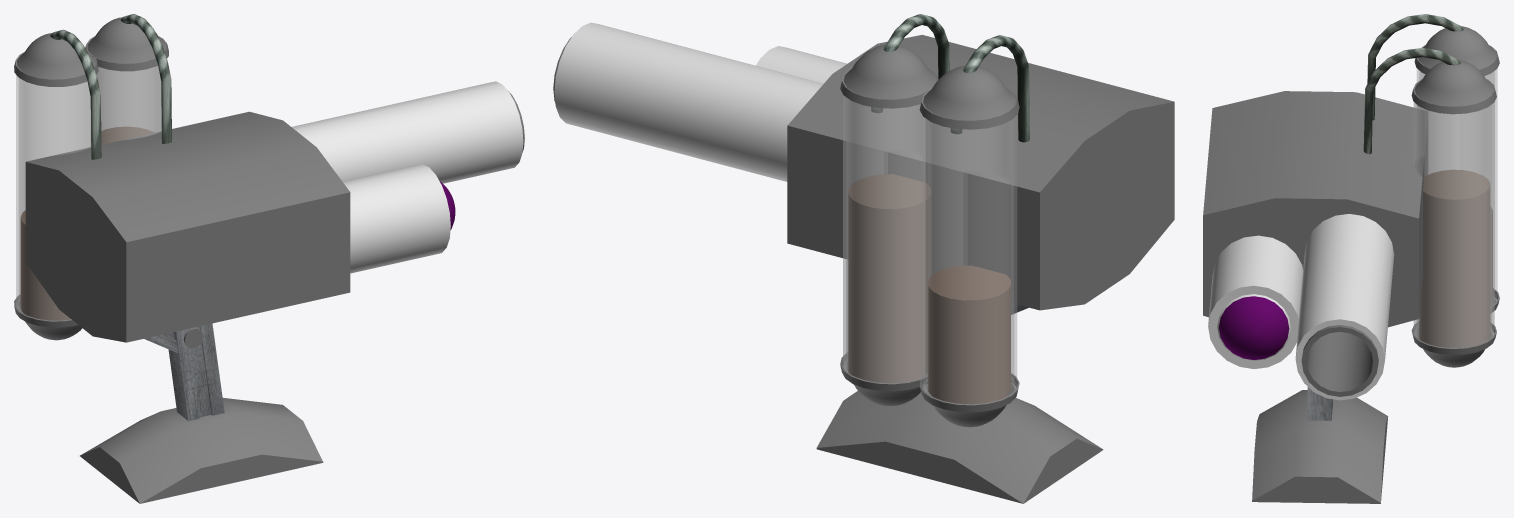
The model's file is CoffeeCannon.fbx.
3 views of the same model, side by side, from view 1: azimuth 30°, elevation 25°; view 2: azimuth 150°, elevation 25°; view 3: azimuth 270°, elevation 25° (orthographic). The views are drawn at different scales.
Parts seen in each view (by area): view 1: polySurface1; view 2: polySurface1; view 3: polySurface1.
Part boxes in pixels (x1,y1,x2,y2): polySurface1: (14,14,524,503); polySurface1: (553,14,1174,503); polySurface1: (1203,14,1499,503).
Size of the model in its own units: 36.86 by 32.11 by 21.24.
9 materials, 2 textured.
